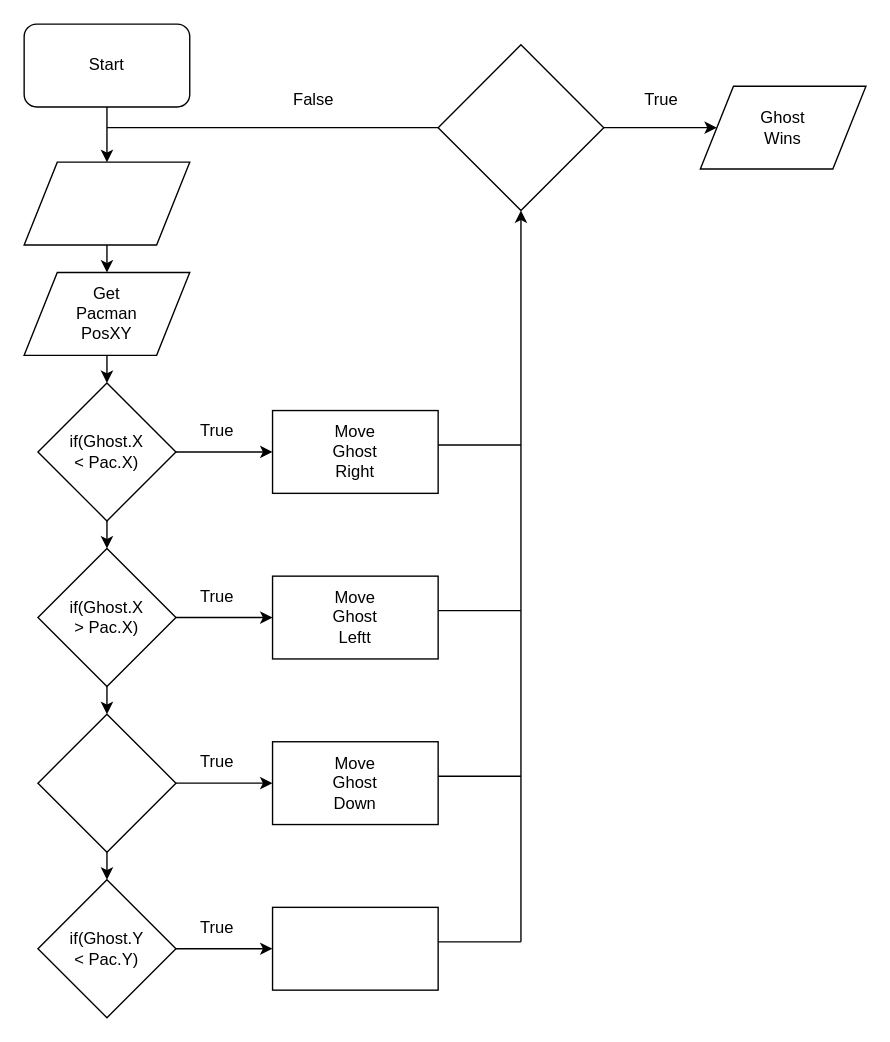
The diagram is 890 pixels wide and 1042 high, and some of its shapes have lost their labels. Each missing label, with the box of its shape:
Get Ghost PosXY: (23, 161, 190, 245)
if(Ghost.XY == Pacmna.XY): (437, 43, 604, 210)
if(Ghost.Y > Pac.Y): (37, 713, 176, 852)
Move Ghost Up: (271, 906, 438, 990)
